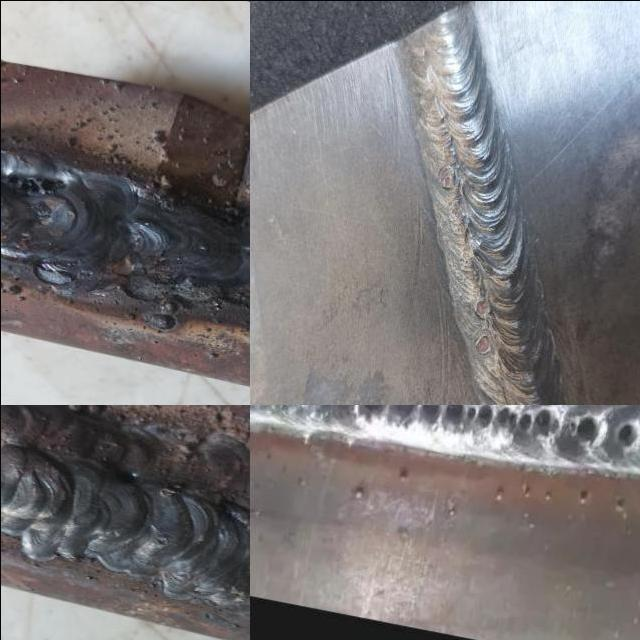defect: (359, 404, 564, 439), (0, 171, 71, 195), (571, 406, 601, 447), (615, 416, 639, 448), (471, 330, 493, 357), (471, 294, 491, 318), (448, 199, 465, 223), (436, 164, 453, 188), (153, 530, 172, 548), (458, 252, 472, 272)
